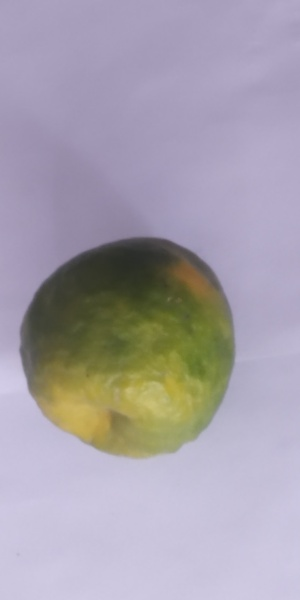BAD: (15, 236, 241, 458)
